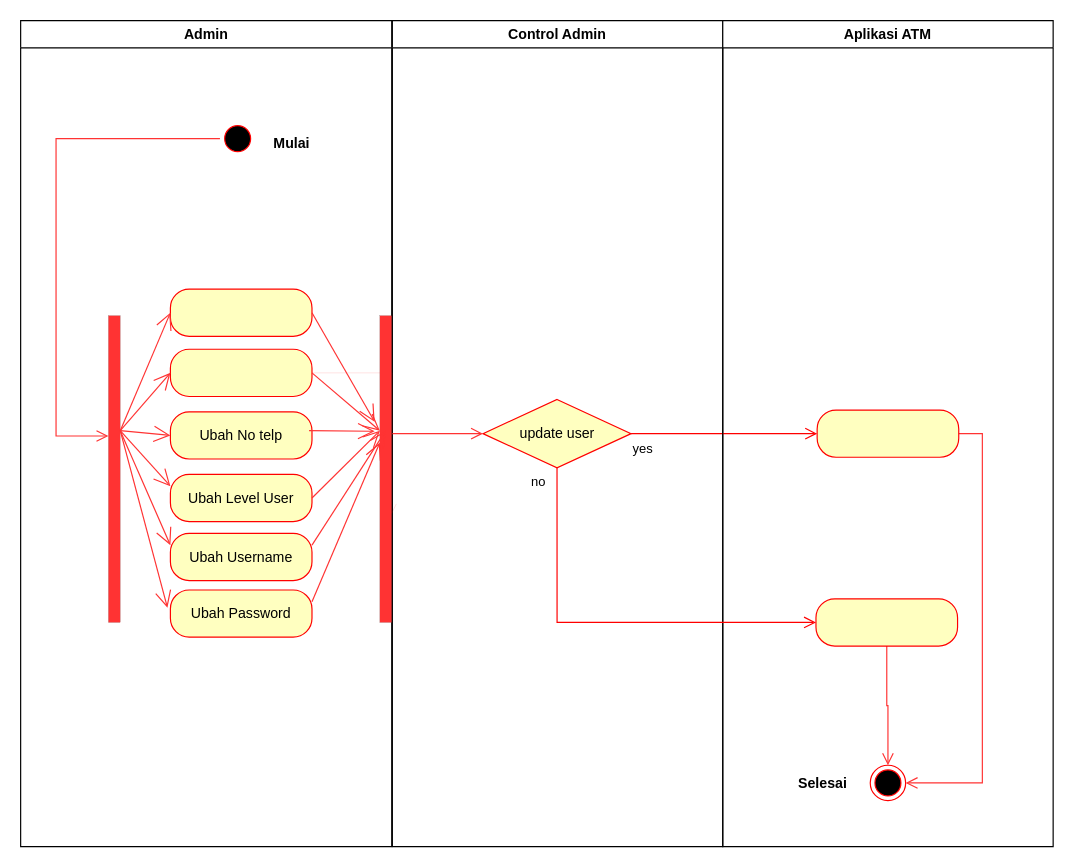
The diagram is 1074 pixels wide and 867 high, and some of its shapes have lost their labels. The centre of each missing label's shape, as x and y in pixels:
Menu Update User: the point at 886,622
Simpan Data: the point at 887,433
Ubah Alamat: the point at 240,372
Ubah Nama: the point at 240,312
